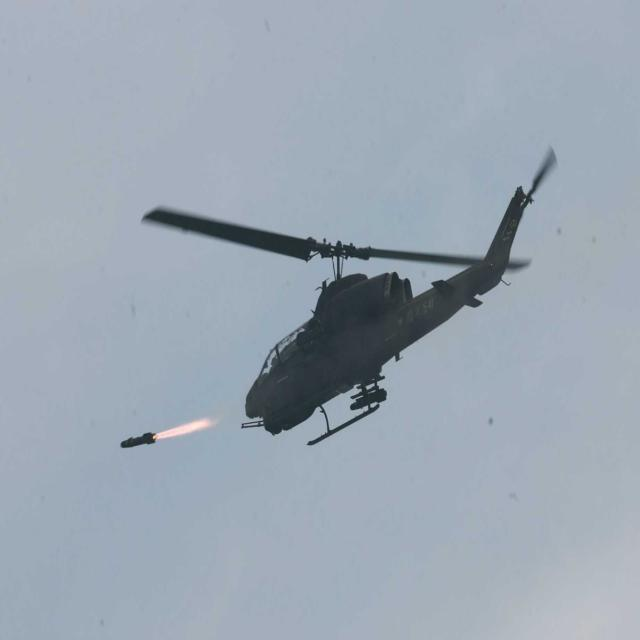missile: (116, 430, 158, 452)
